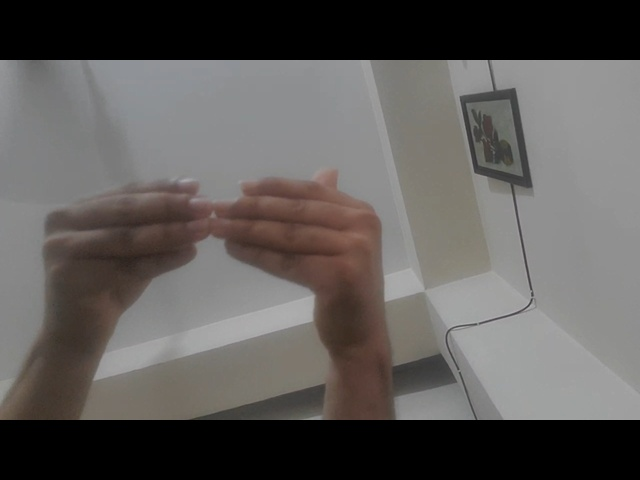Thank you: (26, 151, 402, 387)
